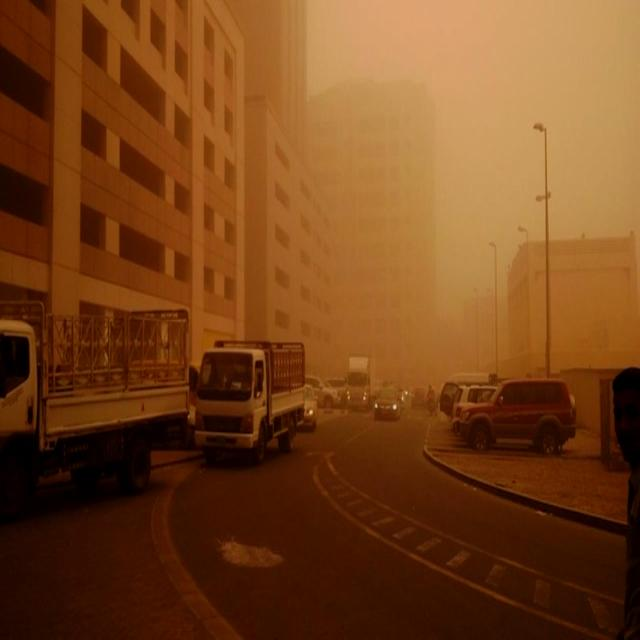Car: (458, 378, 578, 456), (374, 386, 403, 419)
Truck: (194, 337, 303, 459), (343, 353, 374, 413)
